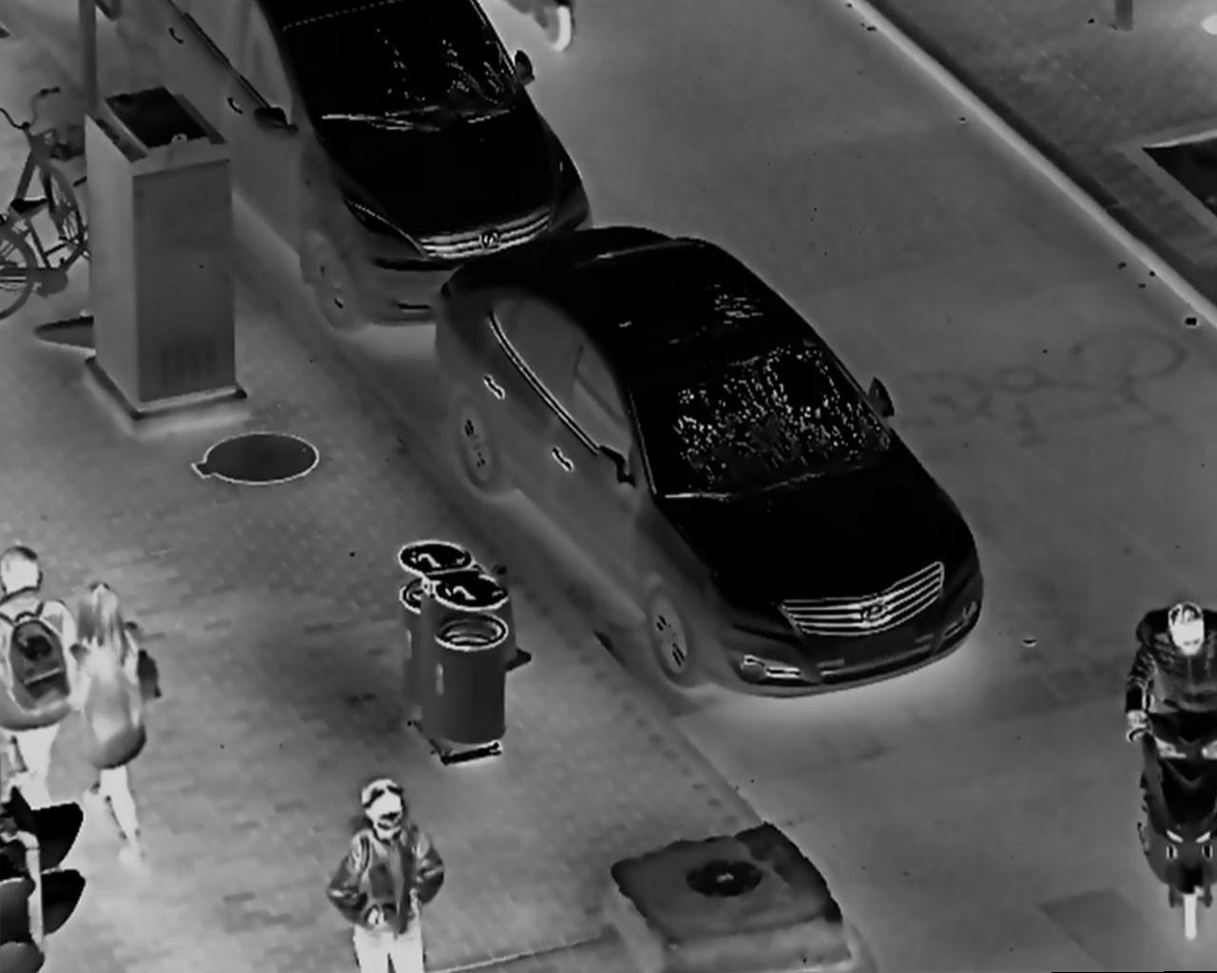person: (1123, 593, 1215, 973), (319, 770, 451, 973), (68, 578, 158, 864)
